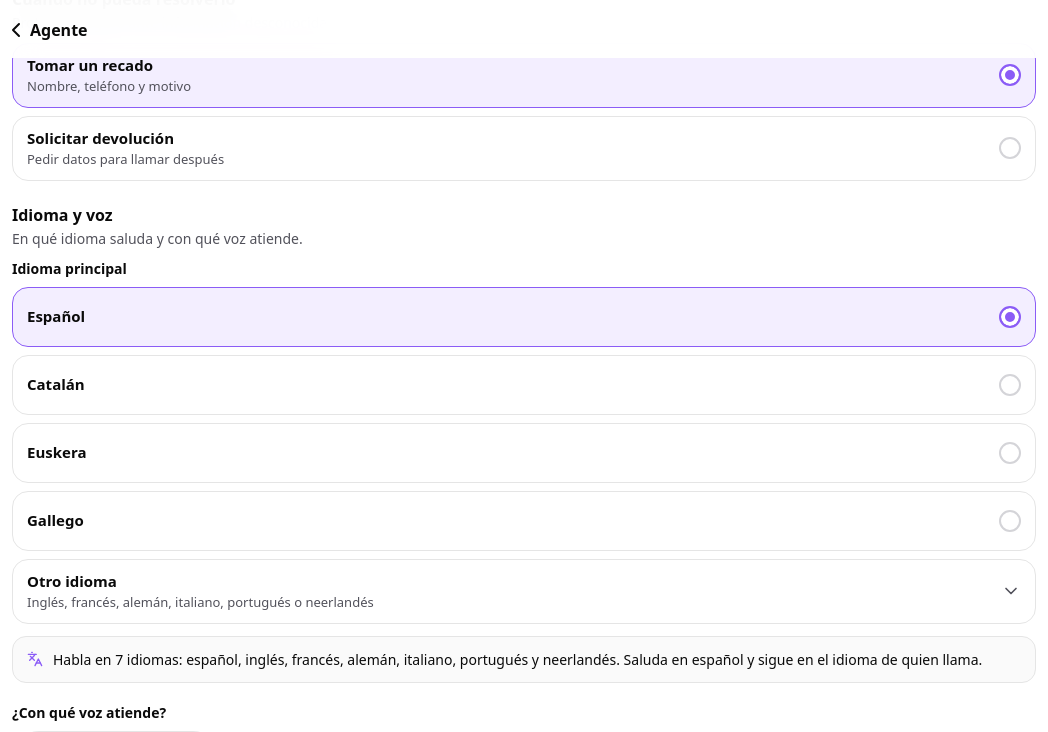
ComportamientoMovil — idioma y voz › dice en cuántos idiomas habla con el principal, con el texto del backend
(page scrolled)
Check: the text "Habla en 7 idiomas: español, inglés, francés, alemán, italiano, portugués y neerlandés. Saluda en español y sigue en el " is shown, box [53,650,982,669]
Click the radio button labelled "Catalán" at (56, 384), box [12,355,1036,415]
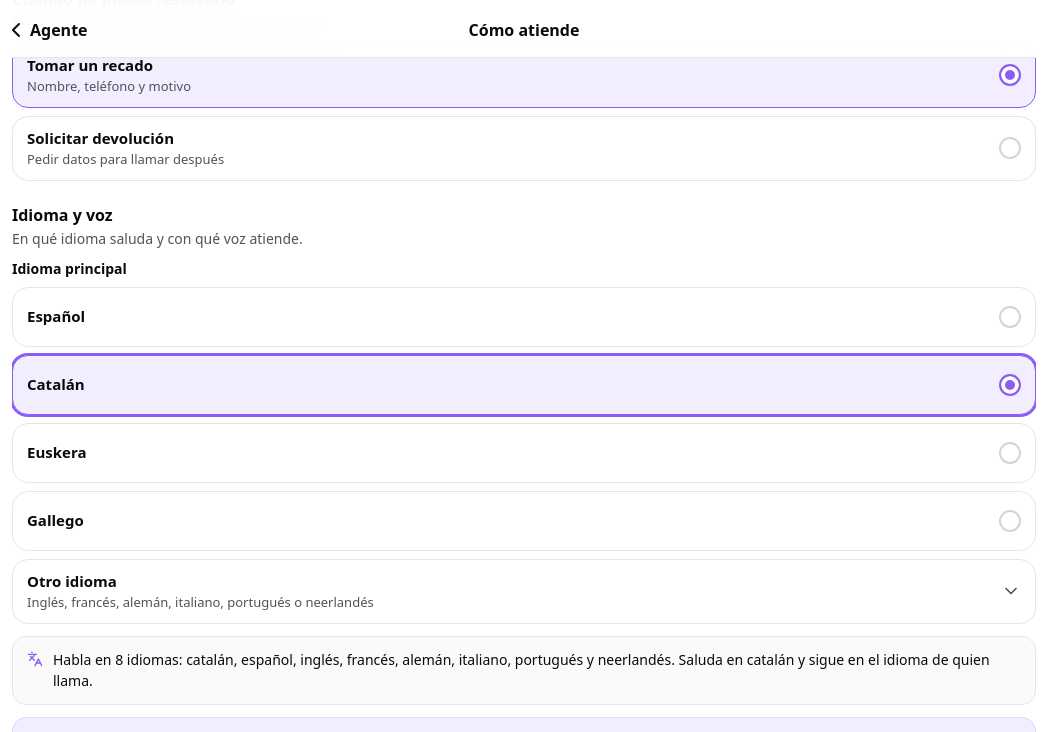
Check: the text "Habla en 8 idiomas: catalán, español, inglés, francés, alemán, italiano, portugués y neerlandés. Saluda en catalán y sig" is shown, box [53,650,990,690]
Check: the text "Habla en 7 idiomas: español, inglés, francés, alemán, italiano, portugués y neerlandés. Saluda en español y sigue en el " is gone
